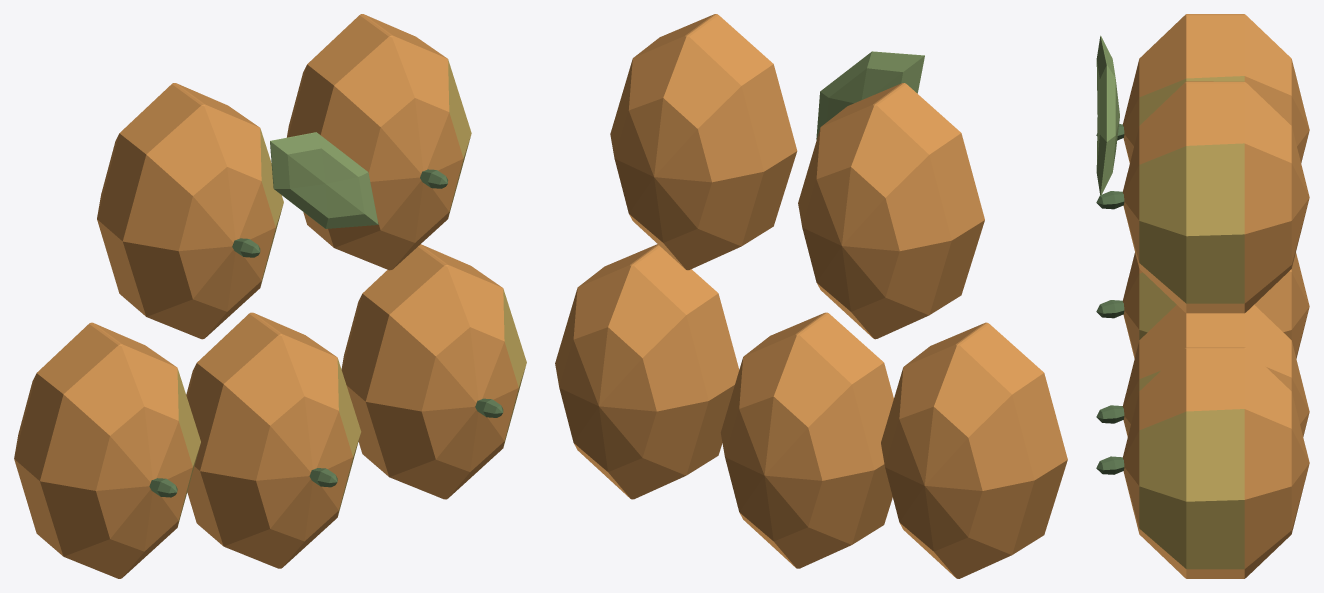
File: kumquats.glb
3 renders of one model, left to right at view 1: azimuth 30°, elevation 25°; view 2: azimuth 150°, elevation 25°; view 3: azimuth 270°, elevation 25°, orthographic.
Visible parts, largest first — view 1: kumquats; view 2: kumquats; view 3: kumquats.
Part boxes in pixels (bbox=[...]): kumquats: bbox=[14, 14, 526, 578]; kumquats: bbox=[555, 14, 1067, 578]; kumquats: bbox=[1096, 14, 1309, 578].
Size of the model in its own units: 0.0882 by 0.0876 by 0.034.
